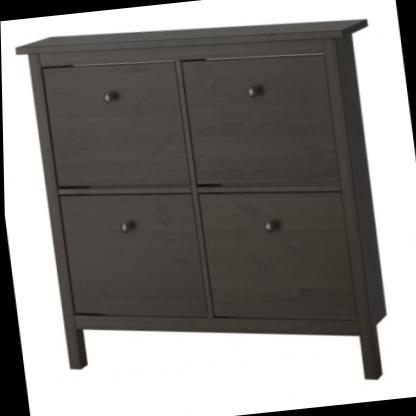Cabinet: (7, 0, 415, 416)
